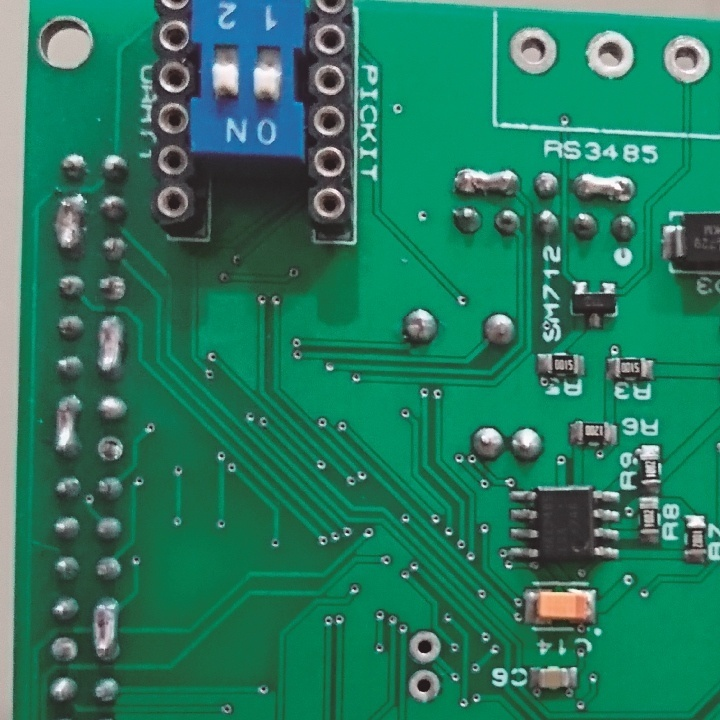F: (504, 24, 560, 81), (583, 28, 638, 84), (661, 32, 713, 91), (408, 663, 441, 708), (408, 628, 442, 665), (94, 433, 128, 467), (47, 634, 83, 665)
P: (452, 164, 524, 198), (570, 169, 638, 203), (90, 597, 124, 664), (51, 194, 87, 255), (50, 392, 81, 460), (95, 312, 124, 379)
